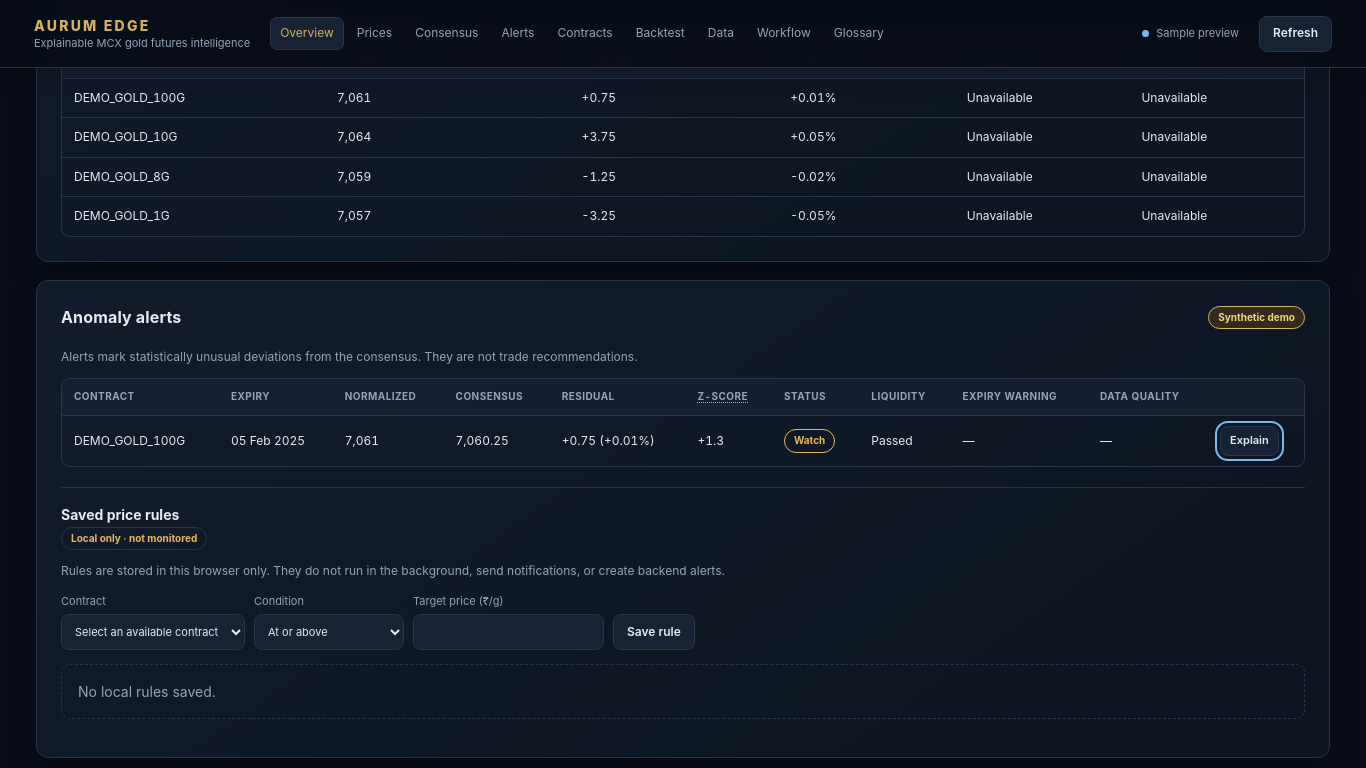
Test: dashboard interactions against backend contract › opens alert details accessibly and restores focus on Escape
(page scrolled)
Click the button with aria-label "Explain alert for DEMO_GOLD_100G": (1249, 441) [1220,426,1279,456]
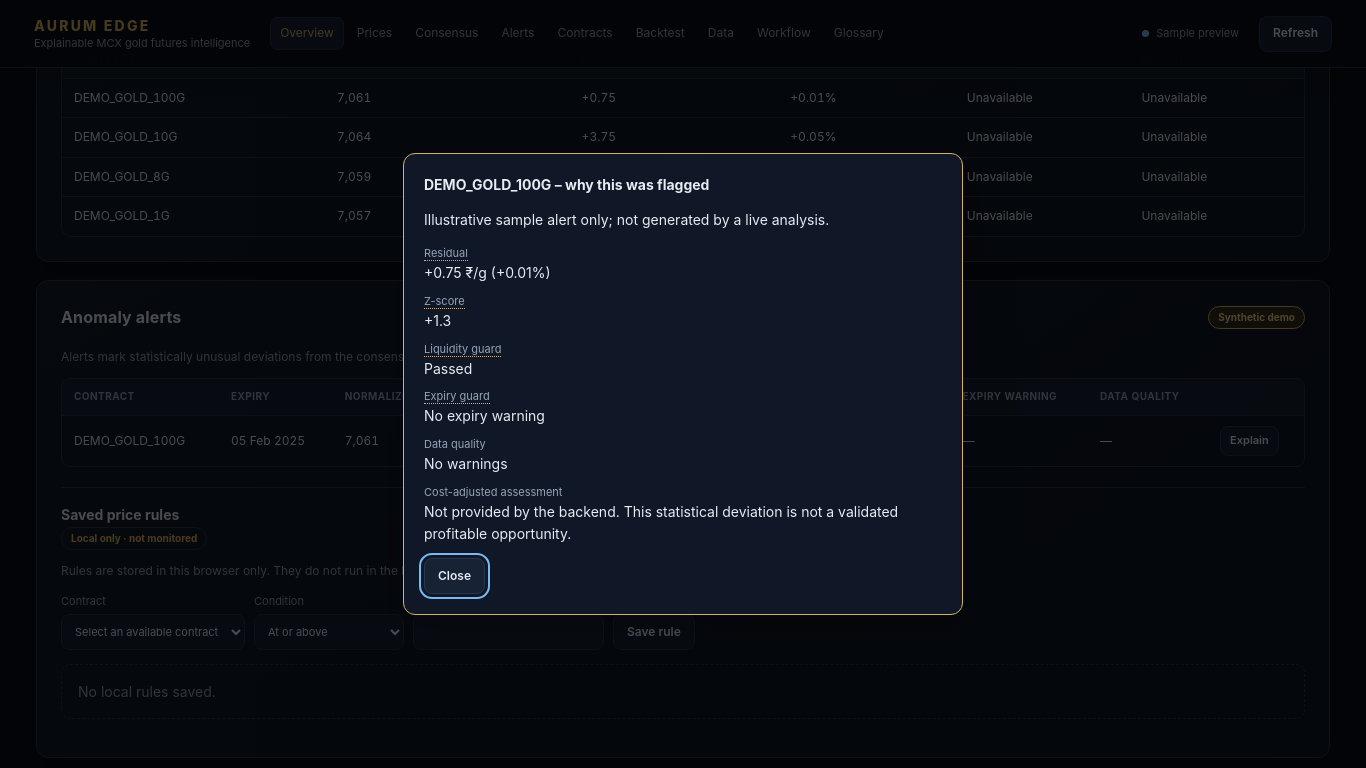
Now the dialog named "Alert details for DEMO_GOLD_100G" is shown, box [403,153,963,615]
Press Escape
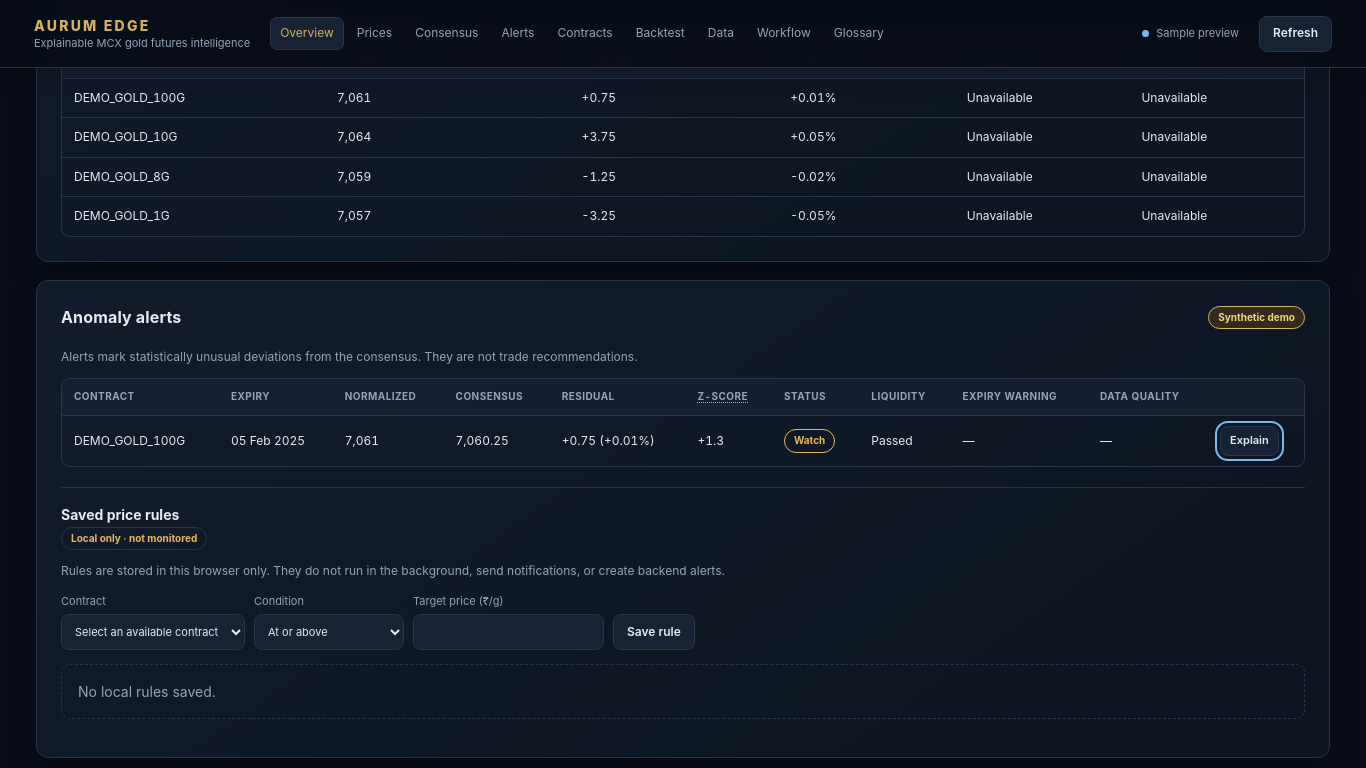
Now the dialog is gone
